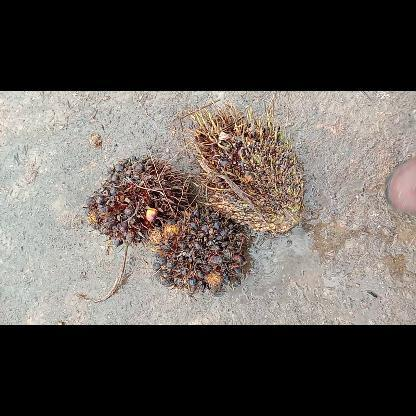TBS abnormal: (188, 101, 304, 233), (84, 155, 190, 245), (150, 209, 248, 293)
